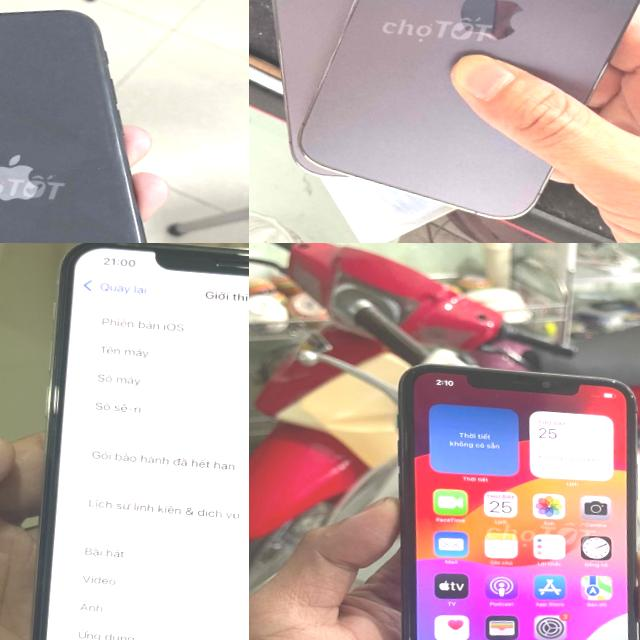scratch: (598, 372, 634, 404)
